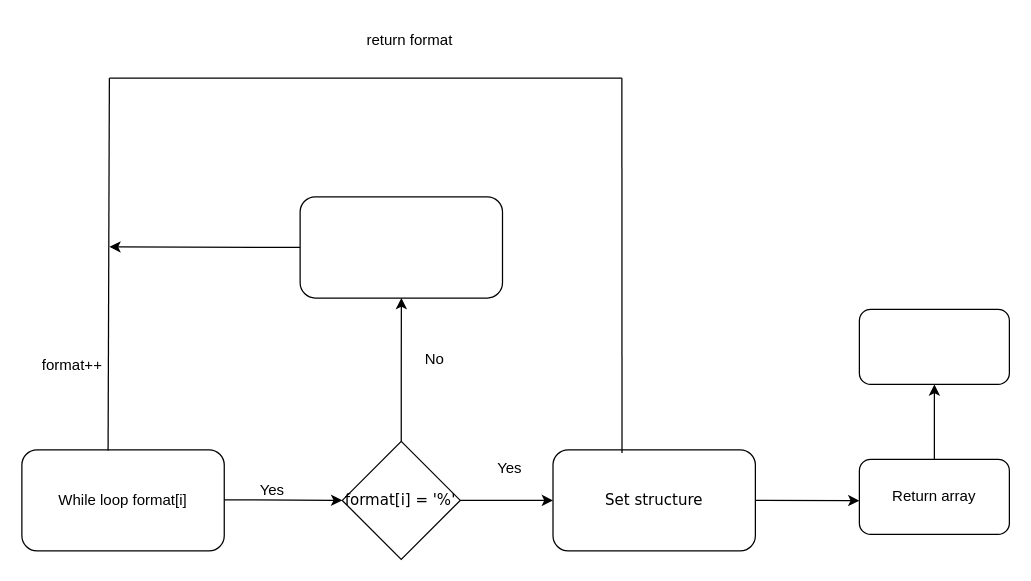
Some shapes in this 1031 by 581 pixel diagram are drawn without their labels. Here are the shapes that lost their labels. From the top down, the box of each, then its label:
(299, 196, 502, 298): Write format[i]
(858, 308, 1009, 384): Print array
